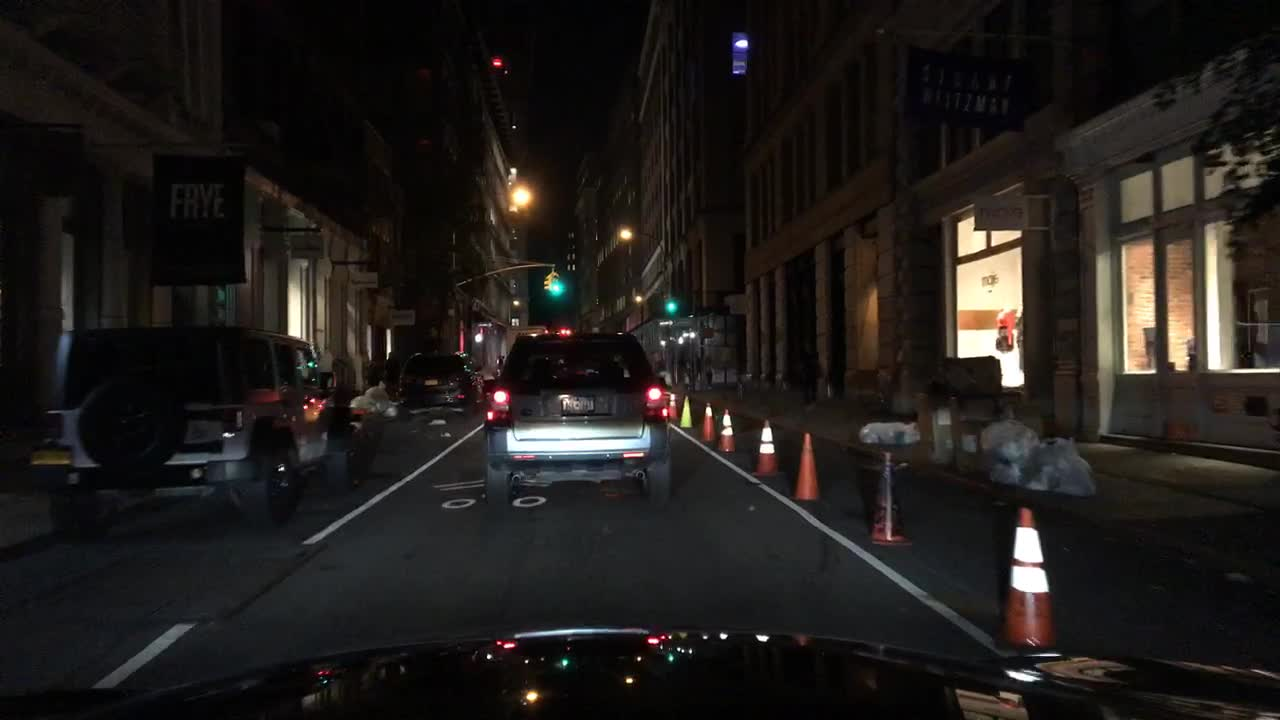car: (23, 314, 384, 539), (483, 332, 671, 504), (400, 350, 483, 419)
person: (385, 350, 399, 401), (320, 344, 334, 390), (375, 350, 384, 383), (495, 352, 503, 378), (369, 360, 375, 385)
traffic light: (663, 296, 681, 319), (549, 274, 561, 301), (543, 272, 549, 293)
traffic sign: (293, 233, 324, 260), (348, 272, 375, 287), (390, 308, 411, 326), (729, 295, 750, 313), (700, 326, 715, 338)
truck: (504, 324, 548, 355)
